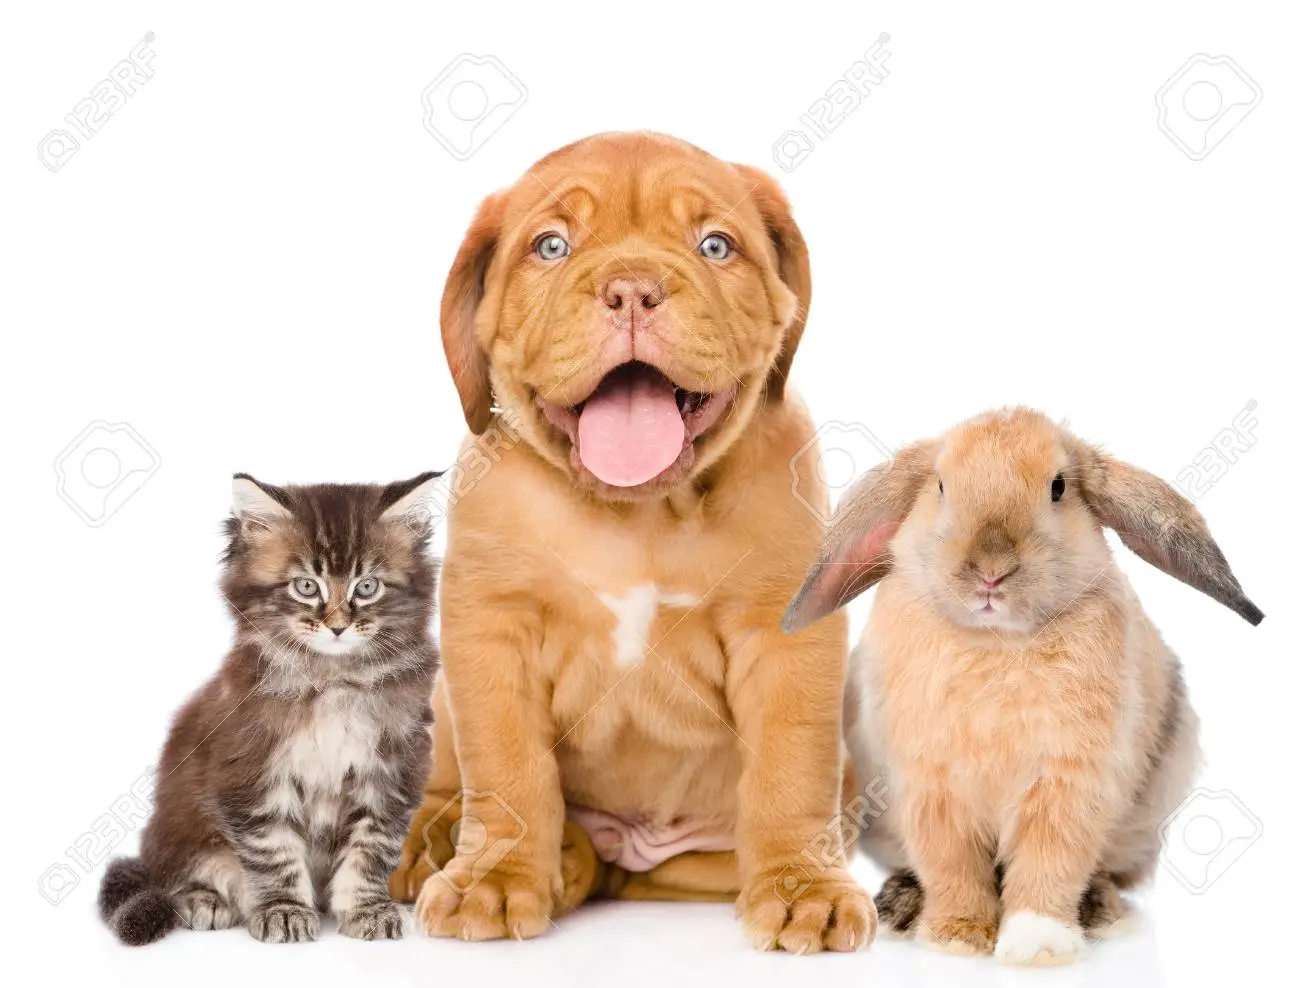cat: (187, 439, 432, 899)
dog: (402, 130, 843, 814)
rabbit: (796, 351, 1226, 940)
